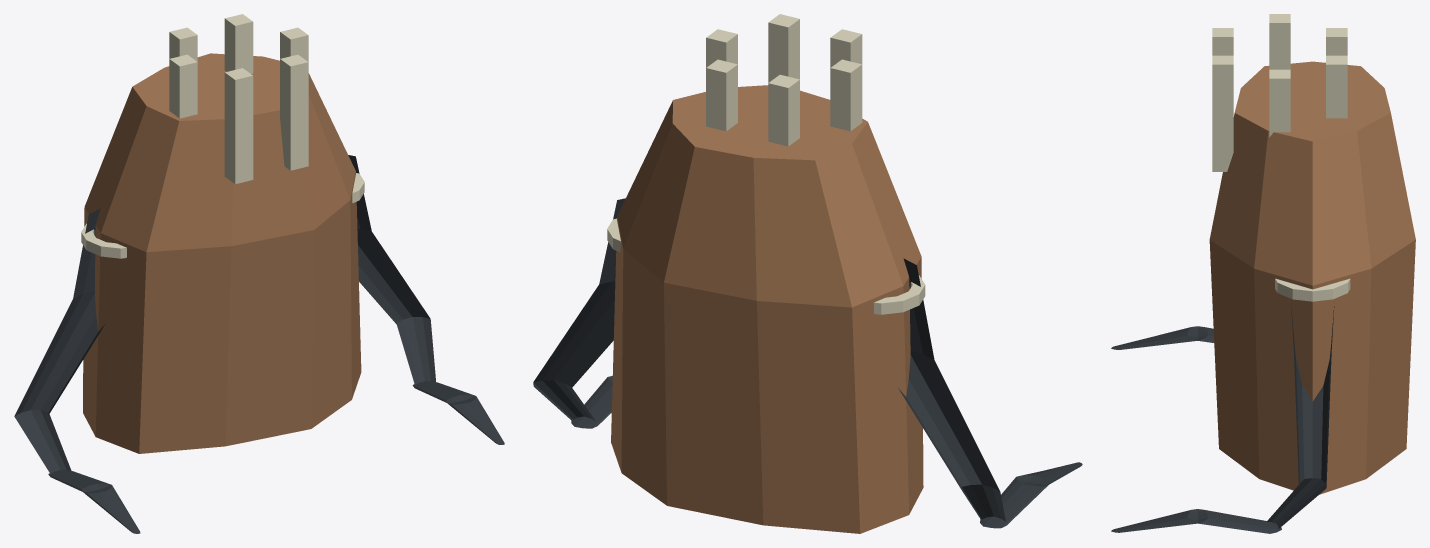
The model's file is hearthmimic.fbx.
3 renders of one model, left to right at view 1: azimuth 30°, elevation 25°; view 2: azimuth 150°, elevation 25°; view 3: azimuth 270°, elevation 25°, orthographic. The views are drawn at different scales.
Visible parts, largest first — view 1: bellied_reliquary, leg_0_skin.002, leg_1_skin.002, false_latch_4, false_latch_5, leg_1_hook.002, leg_0_hook.002, false_latch_3, false_latch_1, false_latch_2, false_latch_0, leg_0_joint.002; view 2: bellied_reliquary, leg_0_skin.002, leg_1_skin.002, false_latch_3, false_latch_1, false_latch_2, leg_0_hook.002, false_latch_5, leg_1_hook.002, false_latch_4, false_latch_0, leg_0_joint.002; view 3: bellied_reliquary, leg_1_skin.002, false_latch_5, leg_1_hook.002, false_latch_0, false_latch_1, false_latch_3, leg_0_hook.002, leg_1_joint.002, false_latch_2, false_latch_4.
Boxes of the visible parts, <box> form: bellied_reliquary: <box>83,53,361,453</box>; leg_0_skin.002: <box>14,208,104,473</box>; leg_1_skin.002: <box>348,155,435,384</box>; false_latch_4: <box>224,68,253,184</box>; false_latch_5: <box>280,54,308,170</box>; leg_1_hook.002: <box>412,381,504,444</box>; leg_0_hook.002: <box>48,470,140,533</box>; false_latch_3: <box>169,54,197,118</box>; false_latch_1: <box>224,14,253,73</box>; false_latch_2: <box>169,27,197,61</box>; false_latch_0: <box>280,27,308,61</box>; leg_0_joint.002: <box>81,223,126,258</box>; bellied_reliquary: <box>611,85,923,533</box>; leg_0_skin.002: <box>898,258,1005,521</box>; leg_1_skin.002: <box>533,198,625,421</box>; false_latch_3: <box>830,59,862,131</box>; false_latch_1: <box>706,59,737,131</box>; false_latch_2: <box>768,74,799,146</box>; leg_0_hook.002: <box>980,462,1082,528</box>; false_latch_5: <box>768,14,799,82</box>; leg_1_hook.002: <box>571,376,612,428</box>; false_latch_4: <box>830,29,862,67</box>; false_latch_0: <box>706,29,737,67</box>; leg_0_joint.002: <box>873,275,925,314</box>; bellied_reliquary: <box>1209,61,1415,494</box>; leg_1_skin.002: <box>1266,302,1334,528</box>; false_latch_5: <box>1212,55,1233,171</box>; leg_1_hook.002: <box>1111,509,1281,533</box>; false_latch_0: <box>1269,69,1290,137</box>; false_latch_1: <box>1326,55,1347,118</box>; false_latch_3: <box>1269,14,1290,69</box>; leg_0_hook.002: <box>1111,326,1214,349</box>; leg_1_joint.002: <box>1275,278,1350,301</box>; false_latch_2: <box>1326,28,1347,55</box>; false_latch_4: <box>1212,28,1233,55</box>.
Bounding box in the file's own units: 150 × 132 × 92.76.
